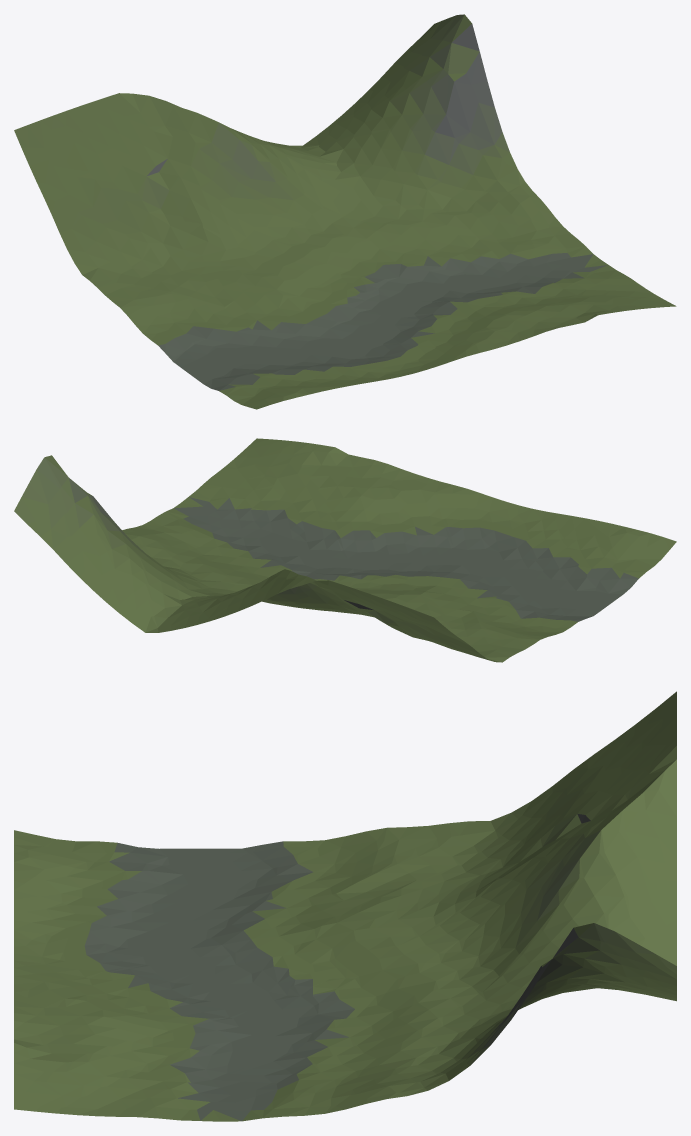
File: Ground_-3_-5.glb
The picture shows the model from 3 angles, top to bottom: view 1: azimuth 30°, elevation 25°; view 2: azimuth 150°, elevation 25°; view 3: azimuth 270°, elevation 25°; orthographic projection. The views are drawn at different scales.
Visible parts, largest first — view 1: Ground_-3_-5; view 2: Ground_-3_-5; view 3: Ground_-3_-5.
Part boxes in pixels (x1=…): Ground_-3_-5: x1=14, y1=14, x2=676, y2=409; Ground_-3_-5: x1=14, y1=438, x2=676, y2=662; Ground_-3_-5: x1=14, y1=691, x2=676, y2=1121.
Size of the model in its own units: 768 by 263 by 768.
